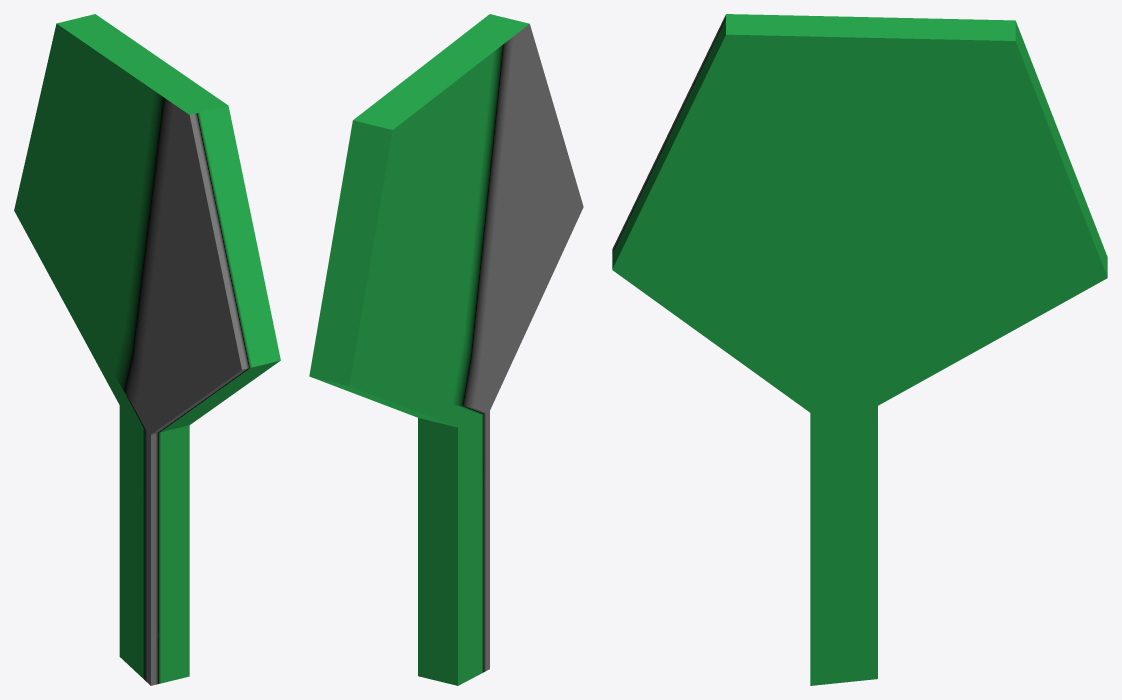
File: leaf.obj
3 renders of one model, left to right at view 1: azimuth 30°, elevation 25°; view 2: azimuth 150°, elevation 25°; view 3: azimuth 270°, elevation 25°, orthographic. The views are drawn at different scales.
Visible parts, largest first — view 1: Cube; view 2: Cube; view 3: Cube.
Part boxes in pixels (x1,y1,x2,y2): Cube: (14,14,280,685); Cube: (309,14,583,685); Cube: (612,14,1107,685).
Size of the model in its own units: 0.0266 by 0.391 by 0.2696.
